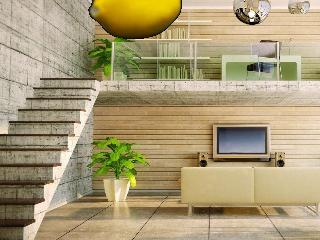lemon: (89, 0, 180, 38)
